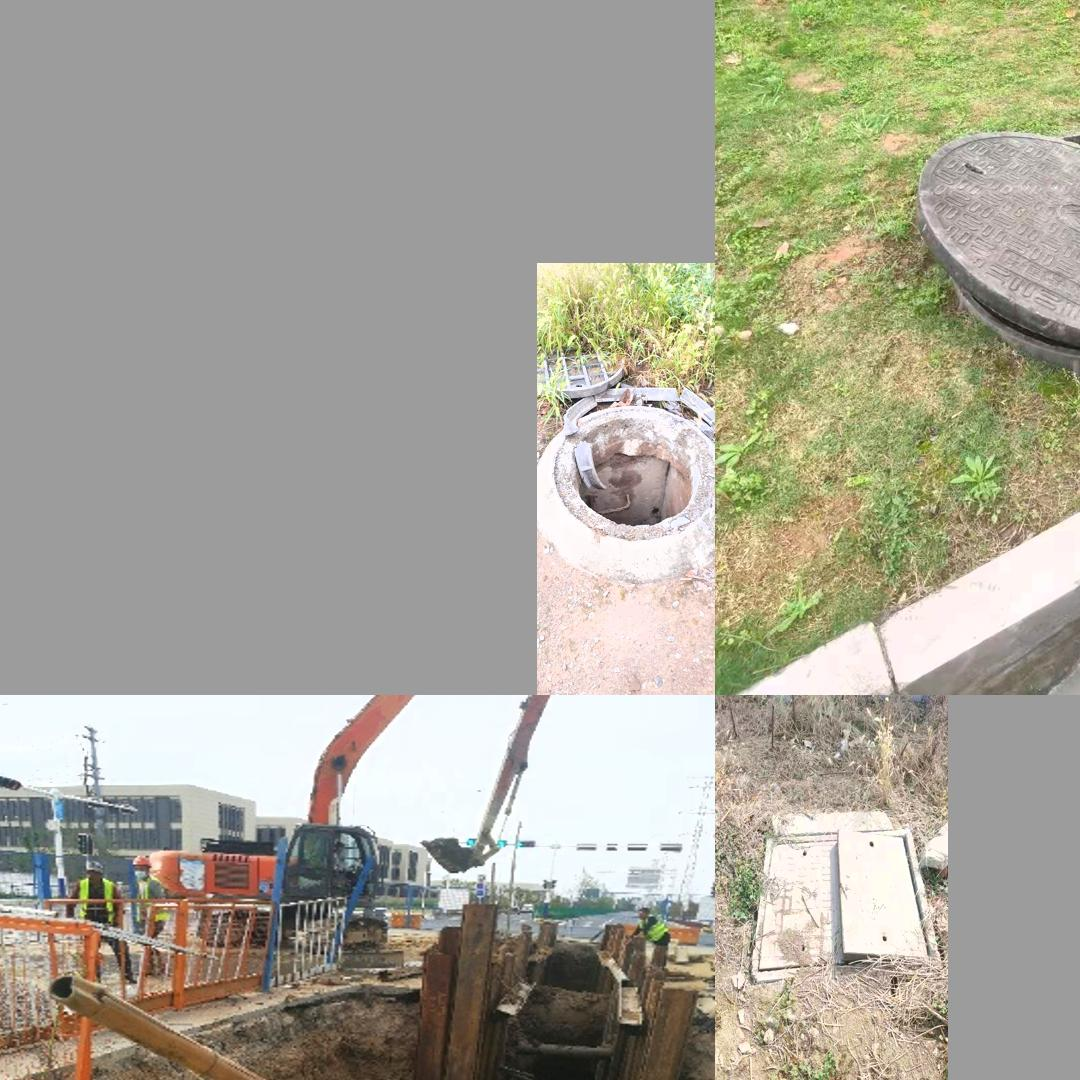uncovered: (540, 306, 710, 582), (915, 126, 1080, 374), (751, 827, 943, 981)
